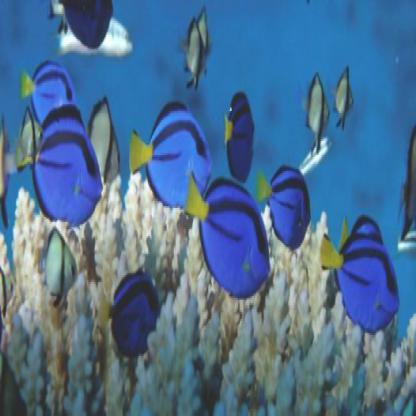surgeon: (184, 169, 274, 303), (14, 102, 104, 229), (128, 102, 216, 216), (318, 227, 401, 338), (98, 269, 165, 352)
